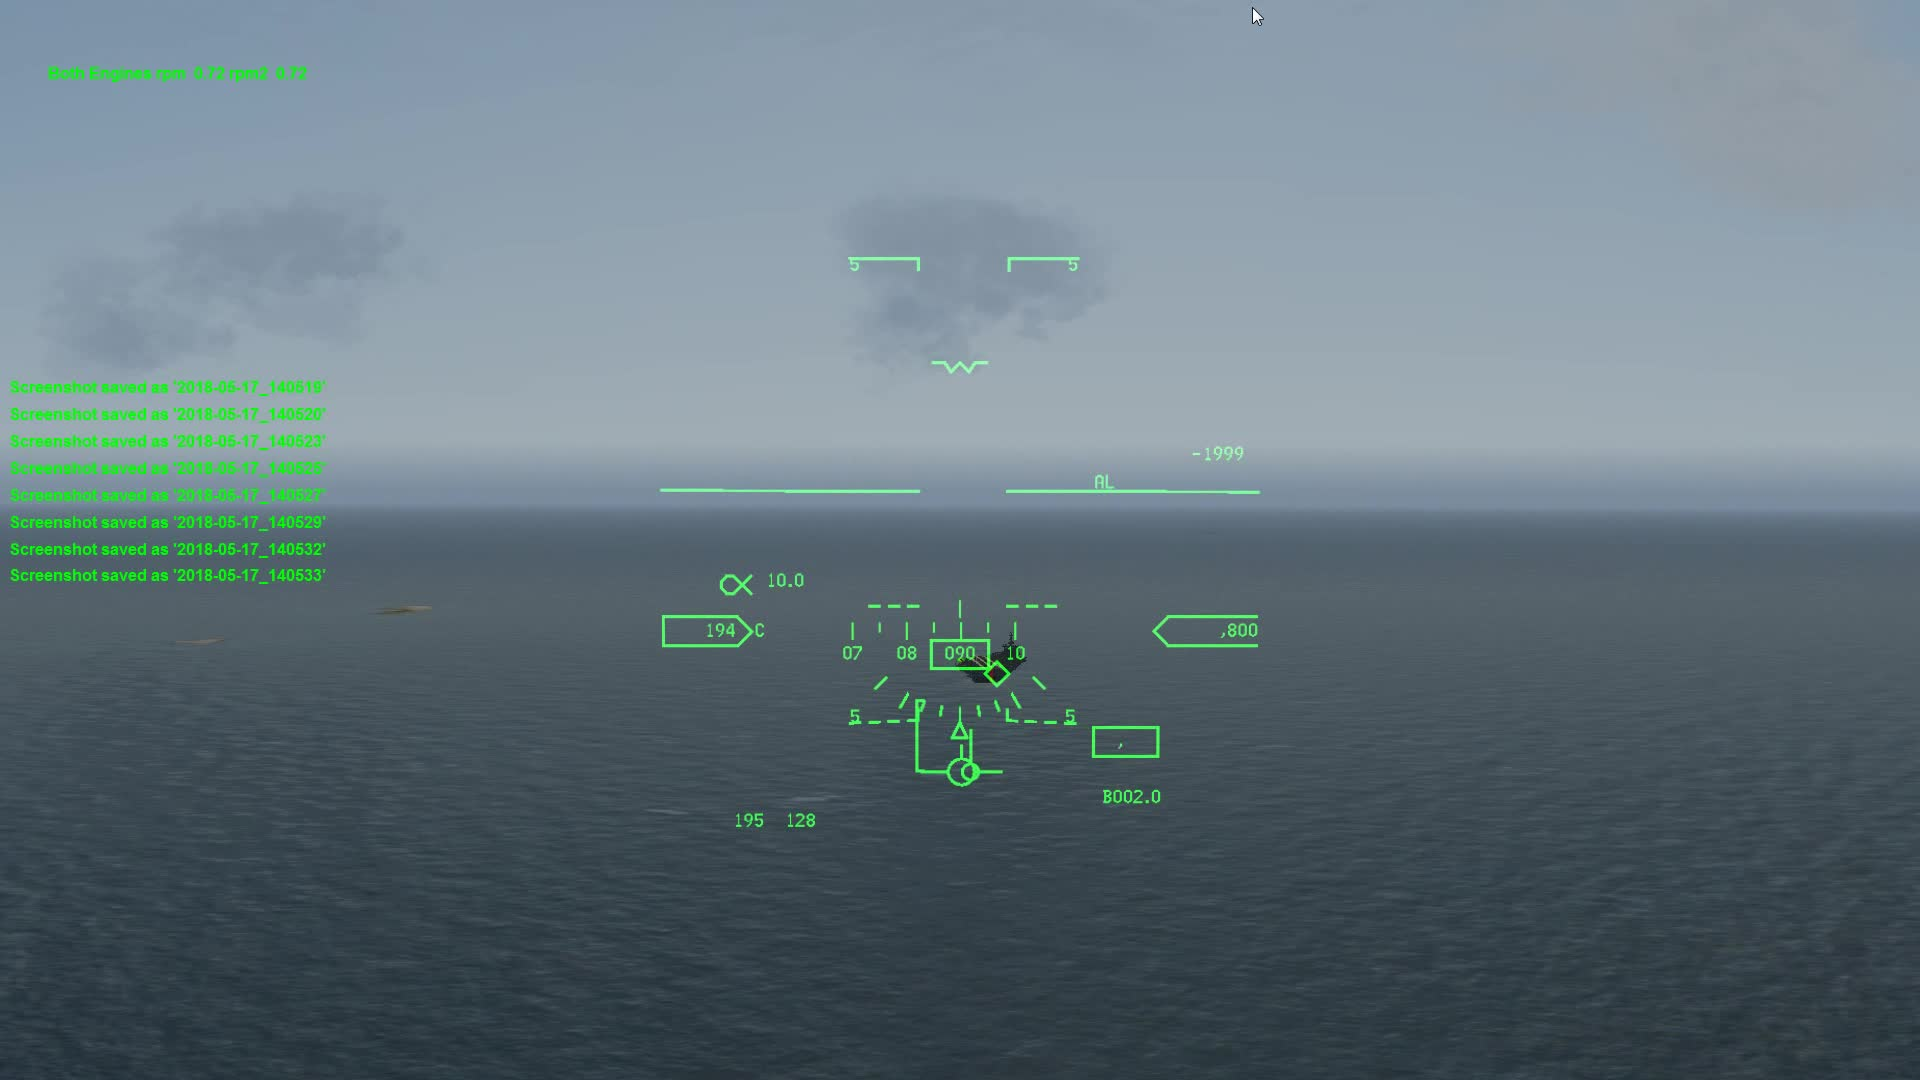speed vector: (913, 742, 1011, 794)
